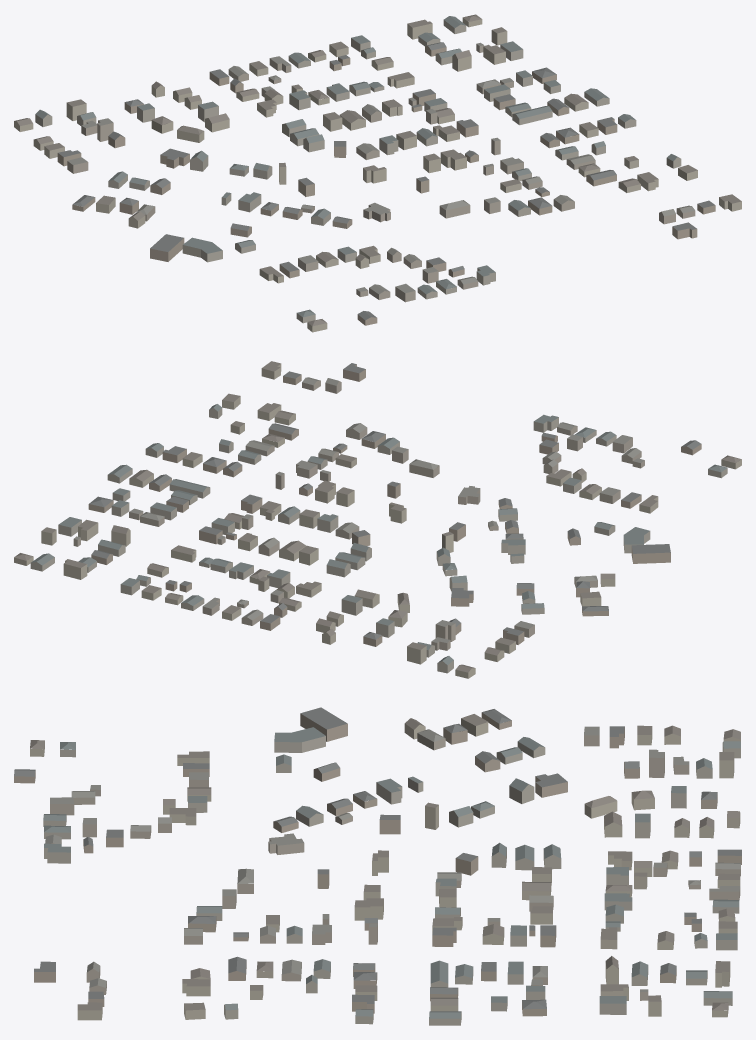
The model's file is 60ba3c75fdd1-chunk-1199_11840.glb.
3 views of the same model, one above another, from view 1: azimuth 30°, elevation 25°; view 2: azimuth 150°, elevation 25°; view 3: azimuth 270°, elevation 25° (orthographic). The views are drawn at different scales.
Parts seen in each view (by area): view 1: building_74652, building_36658; view 2: building_36658; view 3: building_74652, building_36658, building_1891, building_105162, building_113681, building_163855, building_2449, building_64800.
Boxes of the visible parts, <box> form: building_74652: <box>182,237,222,262</box>; building_36658: <box>150,234,184,261</box>; building_36658: <box>631,544,670,563</box>; building_74652: <box>274,727,325,752</box>; building_36658: <box>300,707,347,741</box>; building_1891: <box>535,773,567,797</box>; building_105162: <box>268,833,304,854</box>; building_113681: <box>354,898,383,920</box>; building_163855: <box>584,796,617,818</box>; building_2449: <box>376,778,402,804</box>; building_64800: <box>599,996,626,1014</box>.
Bounding box in the file's own units: 396 × 13.12 × 392.
